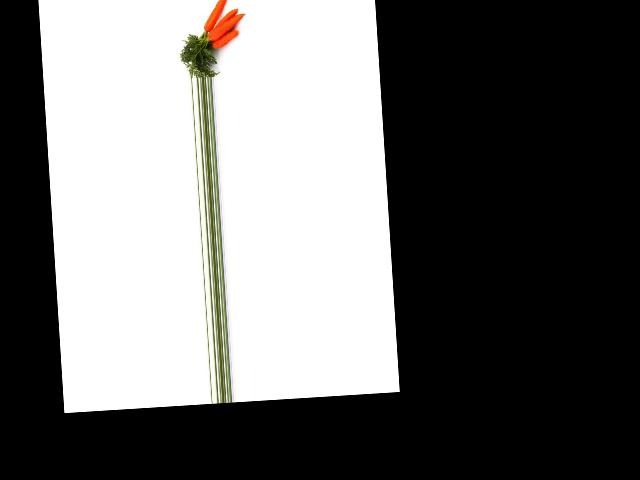carrot: (208, 28, 242, 50)
